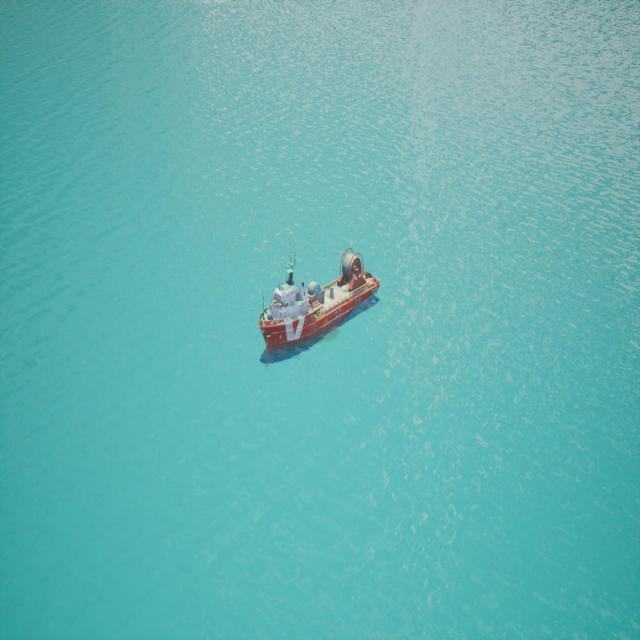tug boat: (259, 257, 382, 367)
